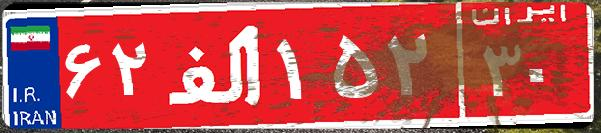0: (525, 38, 570, 115)
1: (273, 28, 330, 110)
2: (385, 28, 445, 110), (110, 28, 158, 105)
3: (475, 38, 525, 113)
5: (330, 28, 385, 110)
6: (57, 26, 110, 107)
الف: (158, 15, 273, 115)
